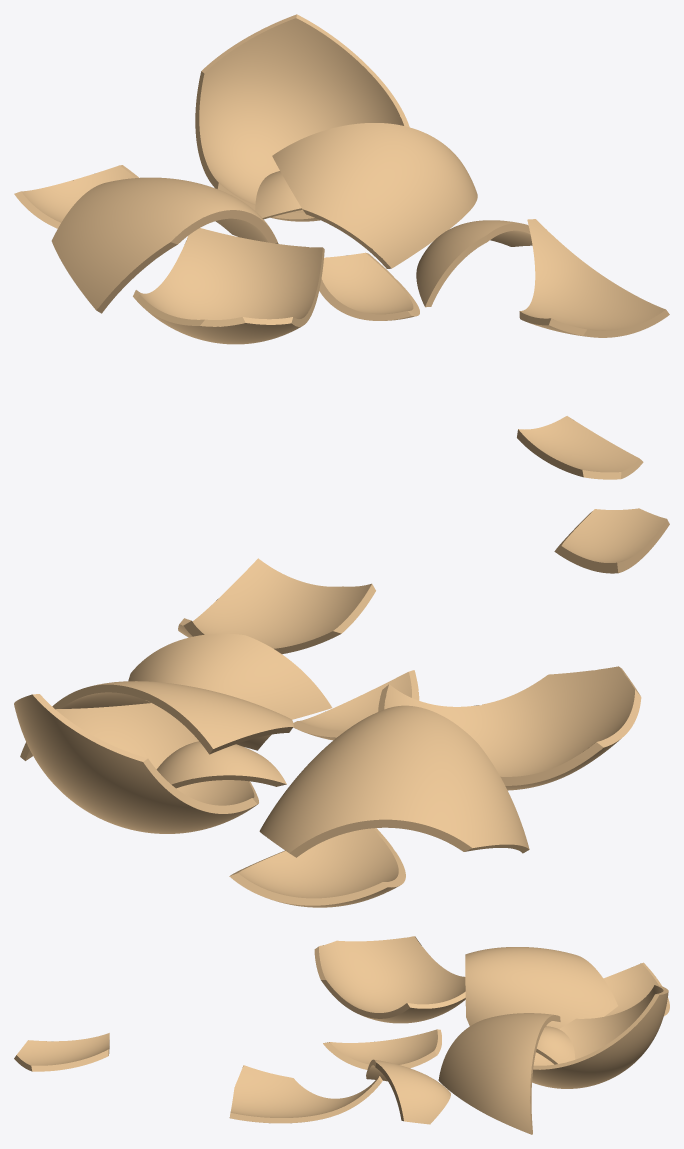
The model's file is fragments.glb.
3 renders of one model, top to bottom at view 1: azimuth 30°, elevation 25°; view 2: azimuth 150°, elevation 25°; view 3: azimuth 270°, elevation 25°, orthographic. The views are drawn at different scales.
Parts seen in each view (by area): view 1: Icosphere.001_cell.004, Icosphere.001_cell.006, Icosphere.001_cell, Icosphere.001_cell.005, Icosphere.001_cell.008, Icosphere.001_cell.001, Icosphere.001_cell.007, Icosphere.001_cell.002, Icosphere.001_cell.009, Icosphere.001_cell.003; view 2: Icosphere.001_cell.005, Icosphere.001_cell.004, Icosphere.001_cell, Icosphere.001_cell.008, Icosphere.001_cell.002, Icosphere.001_cell.009, Icosphere.001_cell.006, Icosphere.001_cell.007, Icosphere.001_cell.003, Icosphere.001_cell.001; view 3: Icosphere.001_cell, Icosphere.001_cell.005, Icosphere.001_cell.006, Icosphere.001_cell.004, Icosphere.001_cell.008, Icosphere.001_cell.002, Icosphere.001_cell.001, Icosphere.001_cell.007, Icosphere.001_cell.009, Icosphere.001_cell.003.
Boxes of the visible parts, bbox=[...] form: Icosphere.001_cell.004: bbox=[195, 14, 409, 221]; Icosphere.001_cell.006: bbox=[272, 123, 477, 268]; Icosphere.001_cell: bbox=[133, 228, 324, 344]; Icosphere.001_cell.005: bbox=[51, 177, 278, 313]; Icosphere.001_cell.008: bbox=[519, 219, 669, 337]; Icosphere.001_cell.001: bbox=[319, 252, 419, 320]; Icosphere.001_cell.007: bbox=[517, 416, 643, 479]; Icosphere.001_cell.002: bbox=[416, 220, 532, 307]; Icosphere.001_cell.009: bbox=[14, 165, 138, 228]; Icosphere.001_cell.003: bbox=[255, 171, 302, 219]; Icosphere.001_cell.005: bbox=[259, 705, 529, 857]; Icosphere.001_cell.004: bbox=[14, 694, 258, 833]; Icosphere.001_cell: bbox=[378, 666, 641, 790]; Icosphere.001_cell.008: bbox=[178, 558, 375, 654]; Icosphere.001_cell.002: bbox=[128, 633, 332, 719]; Icosphere.001_cell.009: bbox=[229, 828, 405, 907]; Icosphere.001_cell.006: bbox=[20, 681, 293, 760]; Icosphere.001_cell.007: bbox=[554, 508, 669, 573]; Icosphere.001_cell.003: bbox=[156, 741, 286, 788]; Icosphere.001_cell.001: bbox=[293, 670, 419, 740]; Icosphere.001_cell: bbox=[314, 936, 465, 1023]; Icosphere.001_cell.005: bbox=[465, 947, 617, 1028]; Icosphere.001_cell.006: bbox=[438, 1013, 560, 1134]; Icosphere.001_cell.004: bbox=[532, 985, 668, 1088]; Icosphere.001_cell.008: bbox=[229, 1065, 382, 1123]; Icosphere.001_cell.002: bbox=[366, 1059, 450, 1124]; Icosphere.001_cell.001: bbox=[323, 1029, 441, 1069]; Icosphere.001_cell.007: bbox=[14, 1033, 109, 1071]; Icosphere.001_cell.009: bbox=[603, 962, 669, 1016]; Icosphere.001_cell.003: bbox=[536, 1026, 575, 1064].
Bounding box in the file's own units: 3.77 × 1.22 × 6.68.
